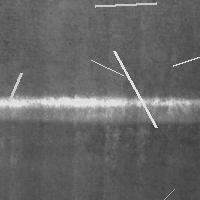scratches: (1, 94, 200, 122), (109, 46, 161, 132), (168, 33, 200, 70), (86, 55, 128, 80), (125, 184, 179, 200), (4, 68, 26, 106), (90, 0, 161, 11)
